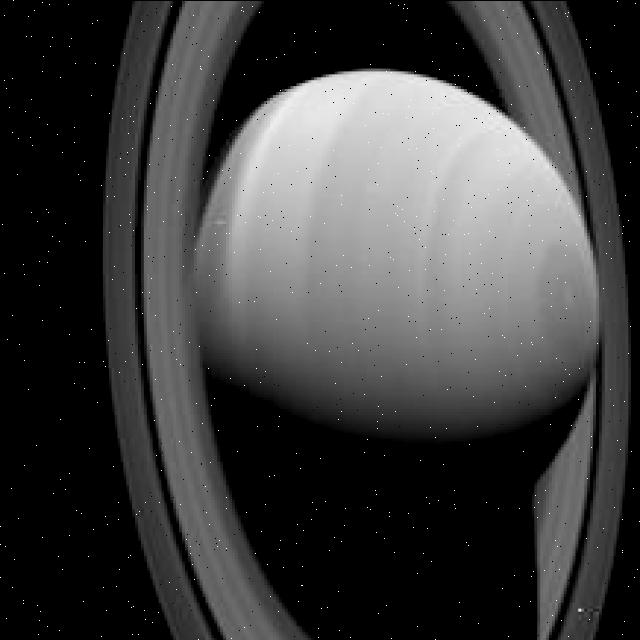Saturn: (99, 0, 632, 640)
